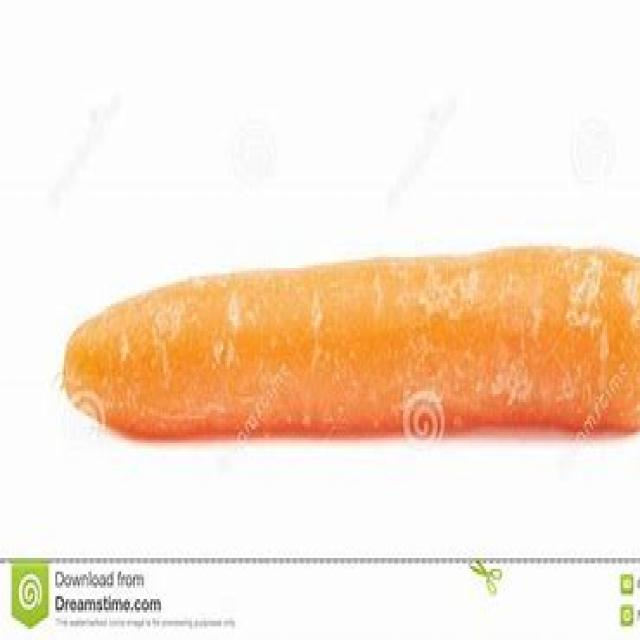Carrot: (55, 241, 639, 445)
